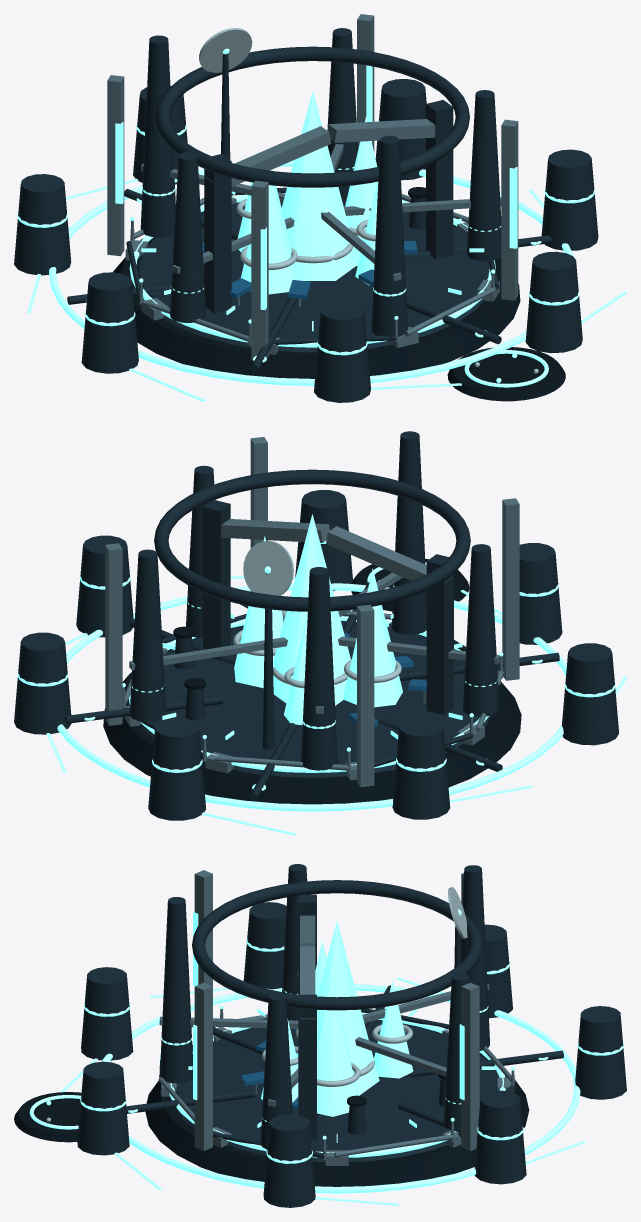
Rendered from crystalMine-stage4.glb.
3 renders of one model, top to bottom at view 1: azimuth 30°, elevation 25°; view 2: azimuth 150°, elevation 25°; view 3: azimuth 270°, elevation 25°, orthographic. The views are drawn at different scales.
Visible parts, largest first — view 1: upper-deck, armored-foundation, industrial-sky-ring, gantry-tower (×2), crystal-spire-0, processing-tower-1, processing-tower-3, refinery-annex-3, refinery-annex-1, refinery-annex-2, refinery-annex-4, processing-tower-2 (+27 smaller); view 2: upper-deck, industrial-sky-ring, armored-foundation, gantry-tower (×2), processing-tower-3, refinery-annex-4, refinery-annex-5, refinery-annex-3, refinery-annex-6, processing-tower-2, processing-tower-4, district-grid-3 (+26 smaller); view 3: upper-deck, armored-foundation, industrial-sky-ring, processing-tower-1, district-grid-3, refinery-annex-0, refinery-annex-1, refinery-annex-6, refinery-annex-5, refinery-annex-2, processing-tower-0, crystal-spire-0 (+22 smaller).
Boxes of the visible parts, box(x1,y1,x2,y2) form: upper-deck: box(132, 199, 489, 352); armored-foundation: box(113, 202, 520, 378); industrial-sky-ring: box(155, 46, 469, 187); gantry-tower (×2): box(204, 100, 453, 313); crystal-spire-0: box(281, 90, 355, 280); processing-tower-1: box(371, 135, 407, 337); processing-tower-3: box(140, 35, 175, 237); refinery-annex-3: box(81, 272, 138, 373); refinery-annex-1: box(525, 251, 582, 353); refinery-annex-2: box(314, 301, 370, 402); refinery-annex-4: box(14, 174, 71, 275); processing-tower-2: box(170, 152, 206, 322); upper-deck: box(129, 621, 491, 777); industrial-sky-ring: box(154, 469, 470, 611); armored-foundation: box(103, 620, 521, 804); gantry-tower (×2): box(203, 499, 453, 714); processing-tower-3: box(301, 567, 337, 770); refinery-annex-4: box(392, 717, 450, 819); refinery-annex-5: box(148, 718, 205, 820); refinery-annex-3: box(562, 643, 618, 745); refinery-annex-6: box(14, 632, 71, 734); processing-tower-2: box(463, 544, 499, 716); processing-tower-4: box(129, 549, 166, 721); district-grid-3: box(57, 583, 566, 811); upper-deck: box(170, 1020, 499, 1162); armored-foundation: box(145, 1020, 529, 1186); industrial-sky-ring: box(192, 880, 482, 1010); processing-tower-1: box(159, 897, 192, 1083); district-grid-3: box(101, 984, 580, 1193); refinery-annex-0: box(263, 1114, 315, 1207); refinery-annex-1: box(77, 1061, 129, 1155); refinery-annex-6: box(474, 1090, 526, 1184); refinery-annex-5: box(575, 1006, 626, 1099); refinery-annex-2: box(81, 967, 133, 1060); processing-tower-0: box(260, 993, 292, 1149); crystal-spire-0: box(317, 920, 379, 1095).
Bounding box in the file's own units: 16.82 × 7.04 × 18.58.
